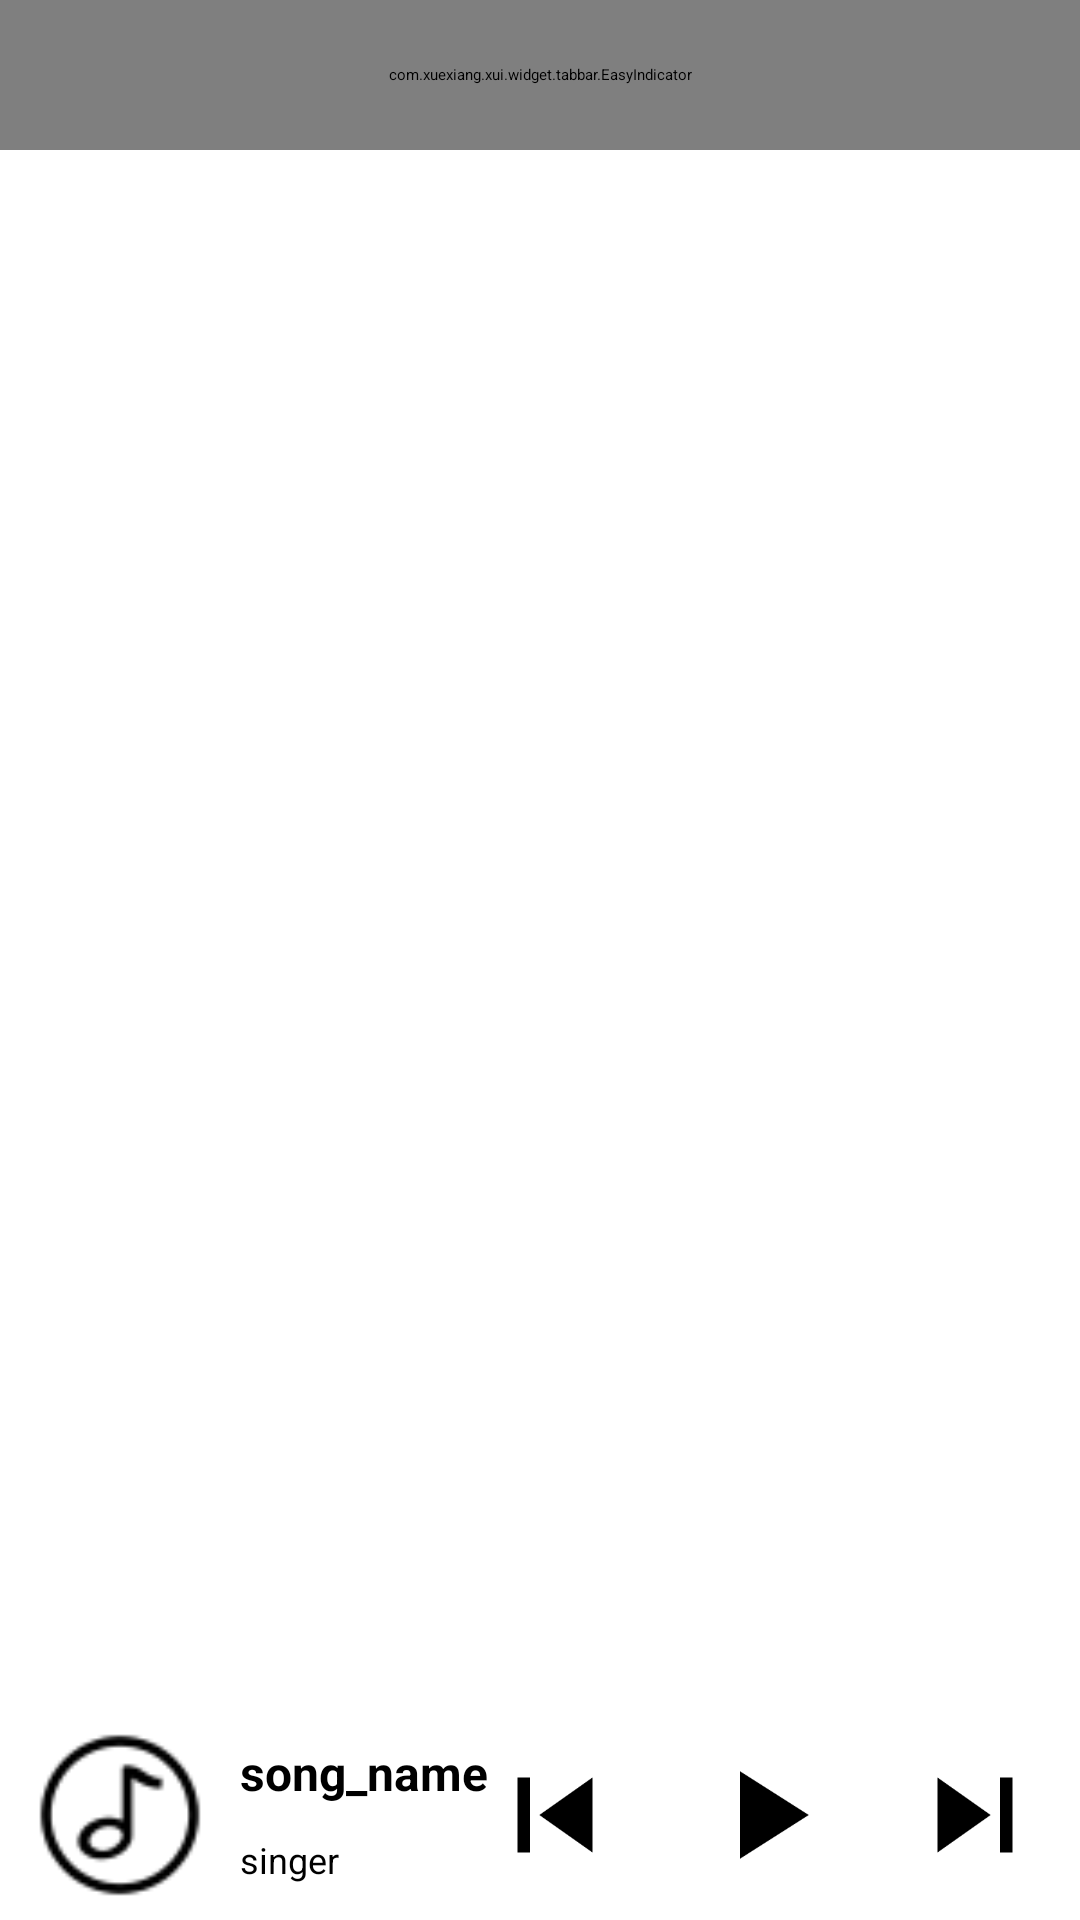

Icon bounding boxes for this 1080 × 1920 phone screenshot, format (x1, y1, x2, y2):
local music: (39, 1734, 201, 1896)
next: (937, 1777, 1013, 1853)
play: (740, 1771, 809, 1859)
prev: (517, 1777, 593, 1853)
